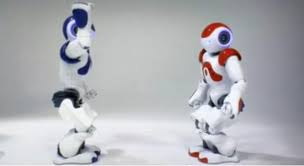nao: (177, 21, 253, 163), (50, 1, 104, 166)
